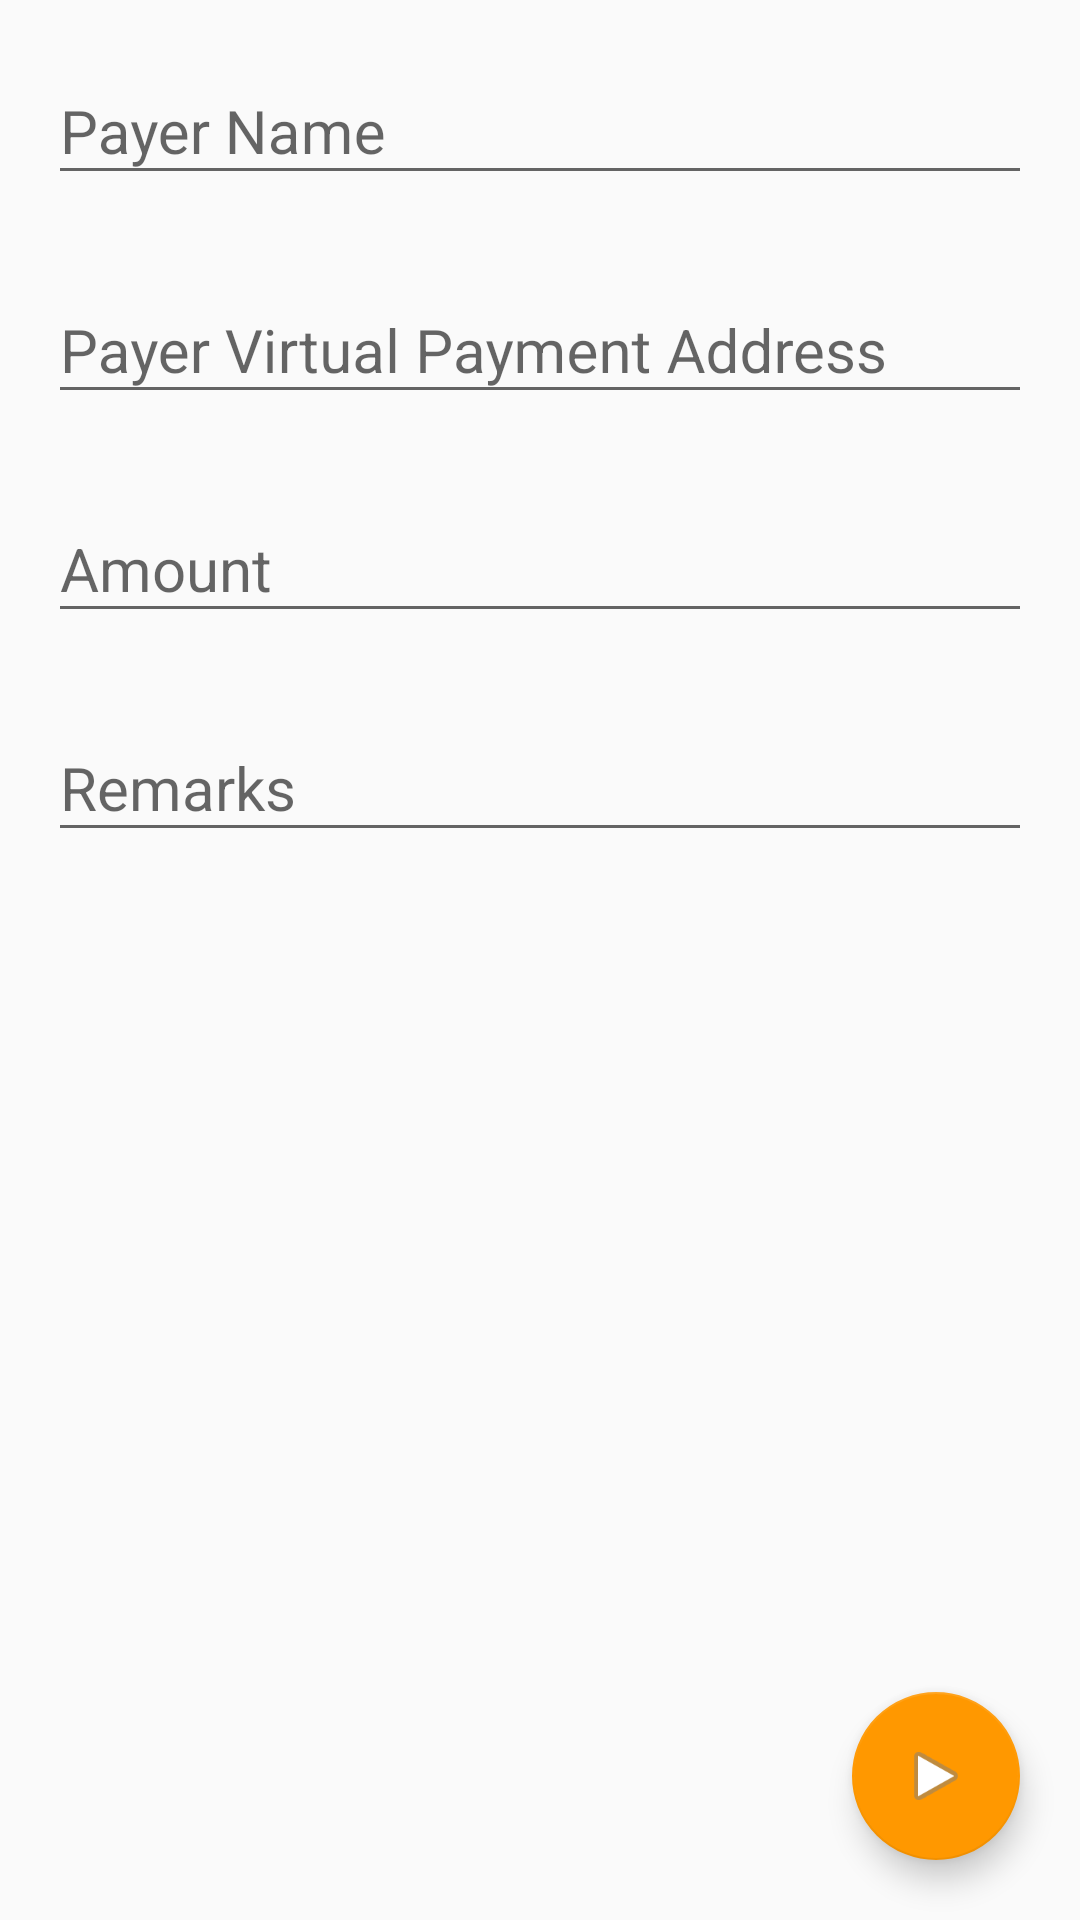

Locate icon controls on the screen. Image size 1080w x 1920h, boxes as {"x1": x1, "y1": y1, "x2": x2, "y2": y2}.
play: {"x1": 852, "y1": 1692, "x2": 1020, "y2": 1860}
